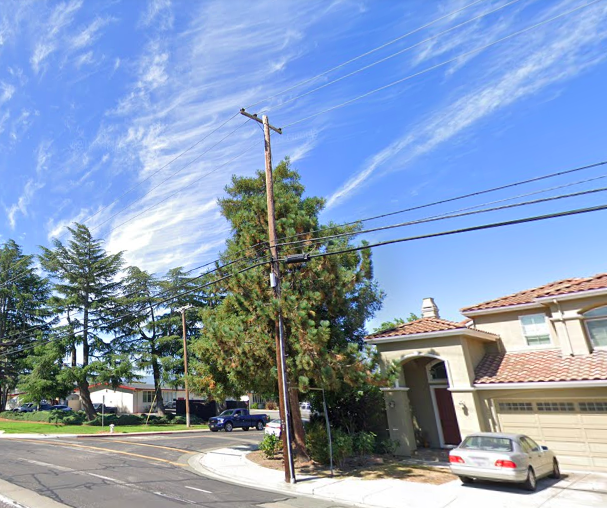utility_pole: (235, 98, 288, 151)
